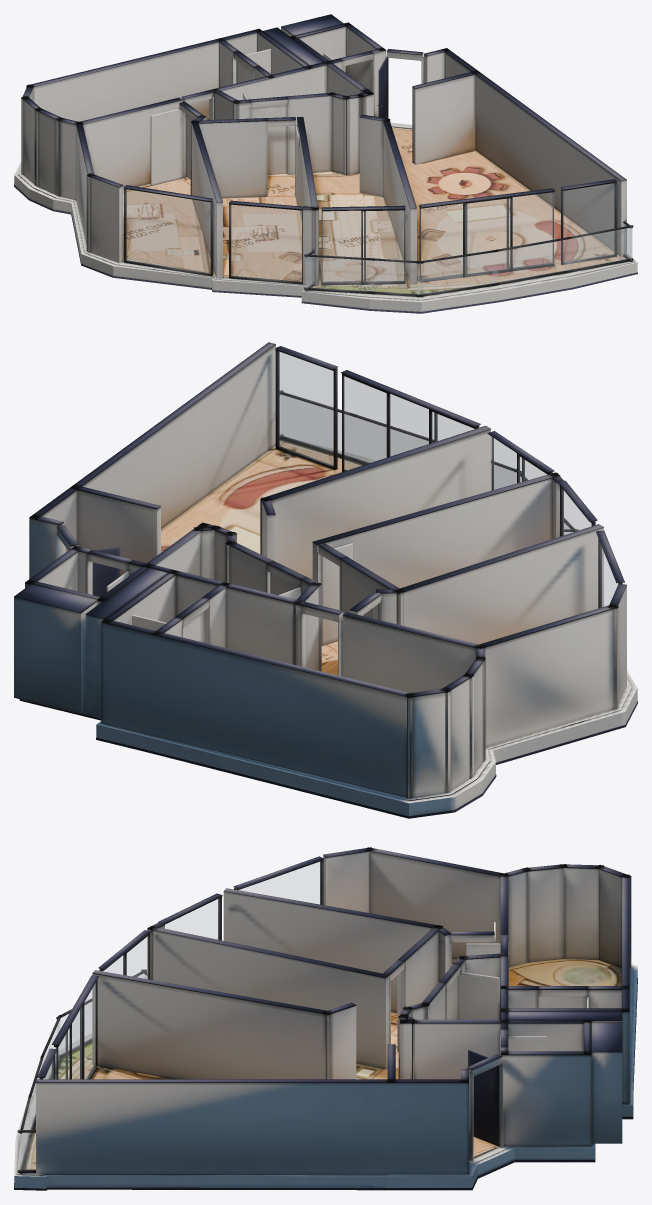
3 renders of one model, top to bottom at view 1: azimuth 30°, elevation 25°; view 2: azimuth 150°, elevation 25°; view 3: azimuth 270°, elevation 25°, orthographic. The views are drawn at different scales.
Parts seen in each view (by area): view 1: plan, glass3_m, glass0_m, glass2_m, glass1_m, glass4_m, railg3_m, railg2_m, railg5_m, railg1_m, railg4_m; view 2: plan, glass3_m, glass4_m, railg1_m, railg2_m, glass2_m, glass1_m, glass0_m; view 3: plan, glass3_m, glass0_m, glass1_m, glass2_m, railg4_m, railg0_m.
Part boxes in pixels (x1,y1,x2,y2): plan: (14, 14, 637, 313); glass3_m: (420, 192, 553, 279); glass0_m: (126, 189, 210, 273); glass2_m: (322, 210, 403, 282); glass1_m: (231, 205, 301, 281); glass4_m: (563, 183, 614, 261); railg3_m: (417, 252, 497, 294); railg2_m: (493, 239, 570, 283); railg5_m: (305, 257, 374, 291); railg1_m: (566, 228, 632, 270); railg4_m: (369, 260, 422, 294); plan: (14, 342, 637, 818); glass3_m: (344, 377, 473, 470); glass4_m: (279, 352, 333, 465); railg1_m: (281, 395, 349, 456); railg2_m: (356, 418, 428, 462); glass2_m: (491, 436, 546, 490); glass1_m: (562, 489, 591, 535); glass0_m: (600, 544, 617, 607); plan: (14, 847, 637, 1190); glass3_m: (55, 984, 95, 1078); glass0_m: (240, 862, 320, 904); glass1_m: (165, 899, 218, 939); glass2_m: (104, 936, 147, 978); railg4_m: (57, 1002, 91, 1054); railg0_m: (18, 1133, 35, 1169).
Bounding box in the file's own units: 12.77 × 2.62 × 13.97.
Materials: 2 (1 with a texture image).
